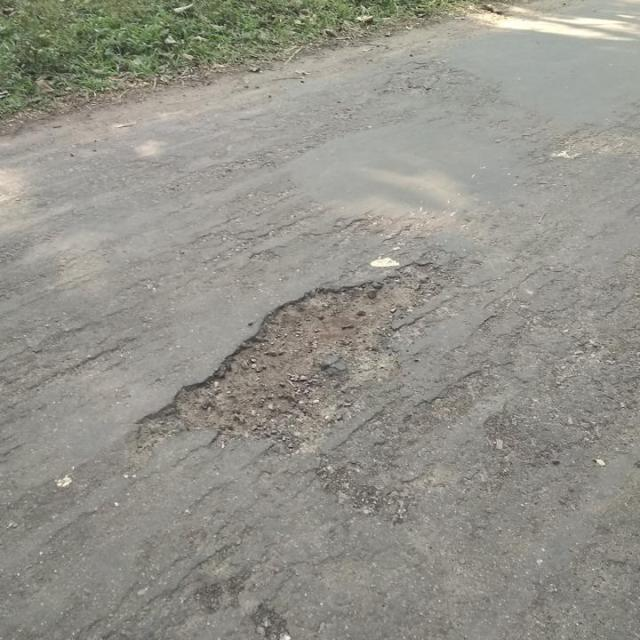pothole: (128, 258, 452, 464)
